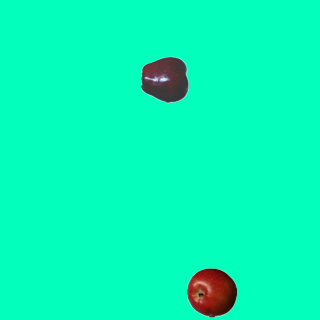Apple Braeburn: (186, 267, 236, 317)
Apple Red Delicious: (140, 54, 190, 104)
